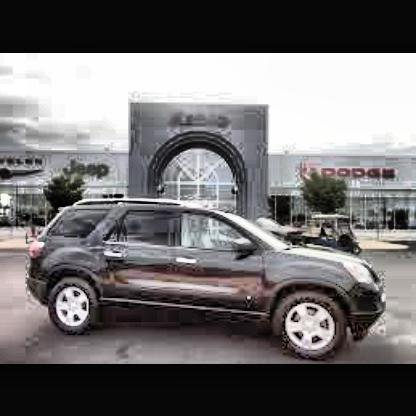GMC Acadia SUV 2012: (30, 191, 389, 361)
